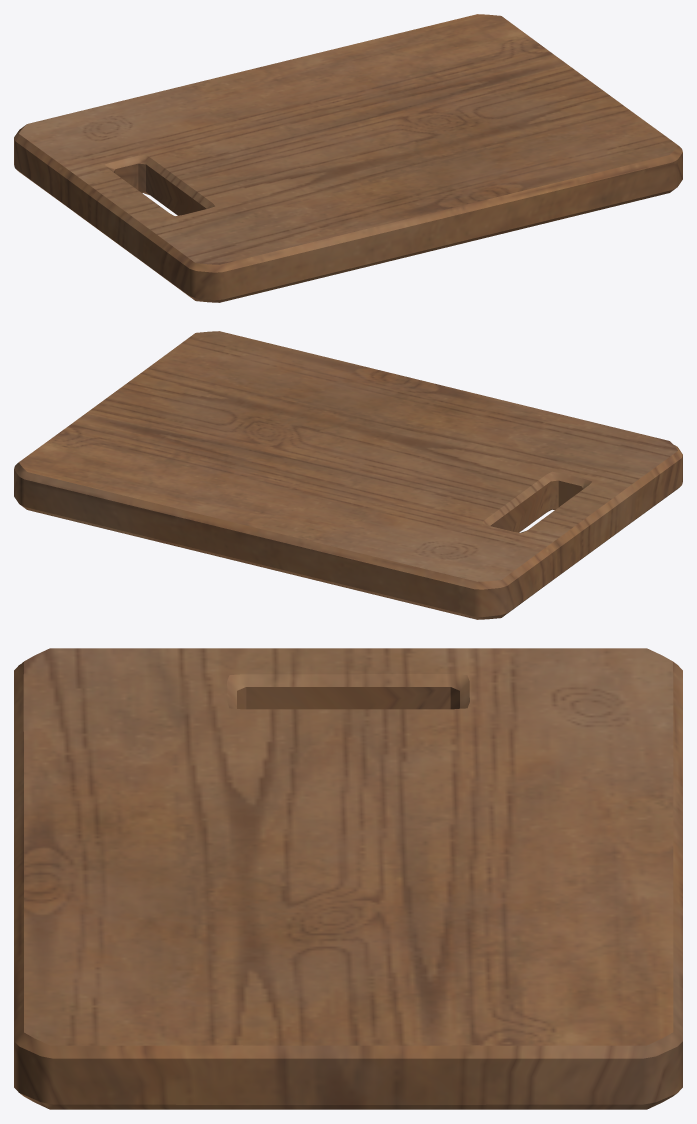
Rendered from Chopping board.fbx.
3 views of the same model, one above another, from view 1: azimuth 30°, elevation 25°; view 2: azimuth 150°, elevation 25°; view 3: azimuth 270°, elevation 25° (orthographic). The views are drawn at different scales.
Visible parts, largest first — view 1: chopping_board; view 2: chopping_board; view 3: chopping_board.
Part boxes in pixels (box(x1,y1,x2,y2)): chopping_board: box(14, 14, 682, 302); chopping_board: box(14, 331, 682, 619); chopping_board: box(14, 648, 682, 1109).
Size of the model in its own units: 47.48 by 3.5 by 33.11.
Materials: 1 (1 with a texture image).
